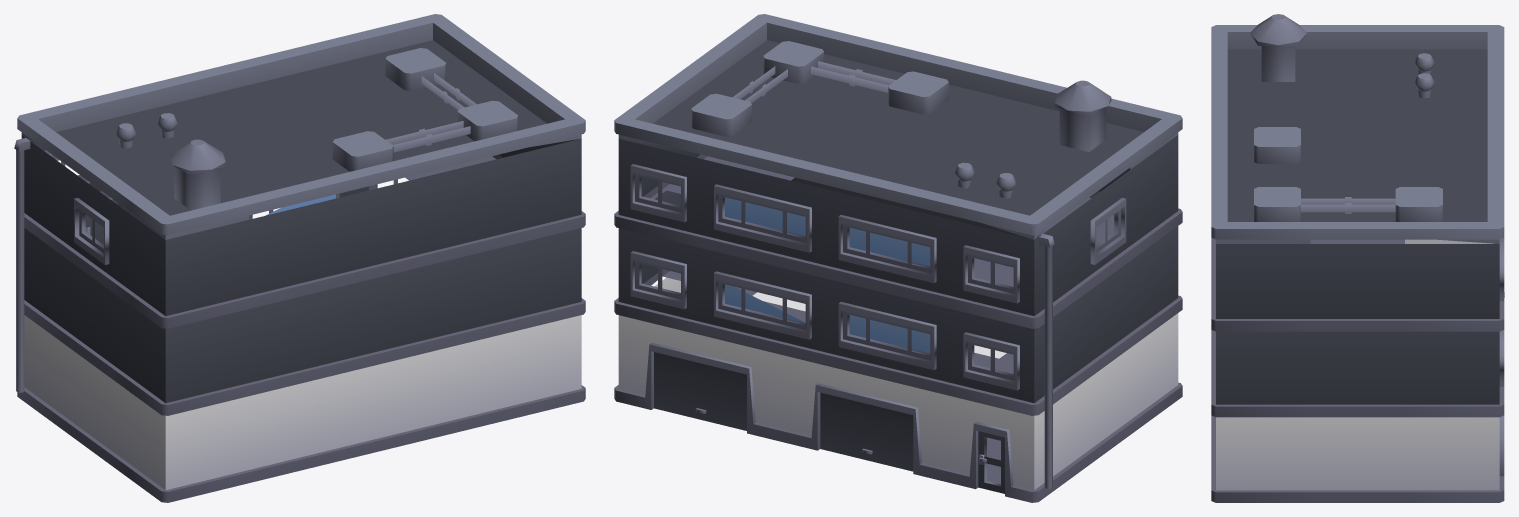
The model's file is works-a.glb.
3 renders of one model, left to right at view 1: azimuth 30°, elevation 25°; view 2: azimuth 150°, elevation 25°; view 3: azimuth 270°, elevation 25°, orthographic.
Visible parts, largest first — view 1: building-a; view 2: building-a; view 3: building-a.
Boxes of the visible parts, x1,y1,x2,y2 form: building-a: [14, 14, 585, 502]; building-a: [614, 14, 1182, 502]; building-a: [1211, 14, 1504, 502].
Size of the model in its own units: 2.08 by 1.47 by 1.24.
1 material, 1 textured.
